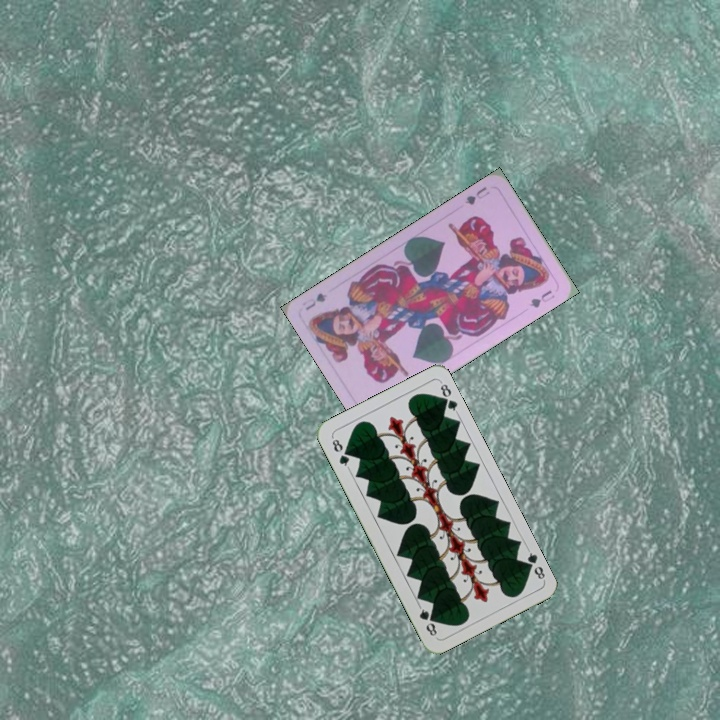G8: (520, 545, 548, 583), (328, 433, 352, 471)
GU: (461, 183, 492, 208)
